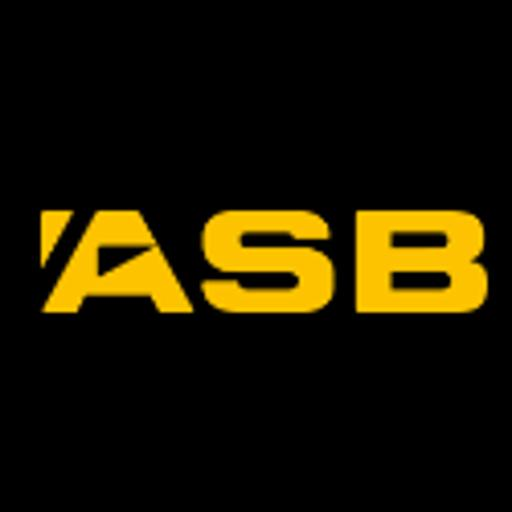ASB Bank Limited: (0, 174, 512, 337)
